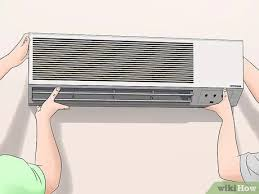ac: (26, 30, 245, 110)
